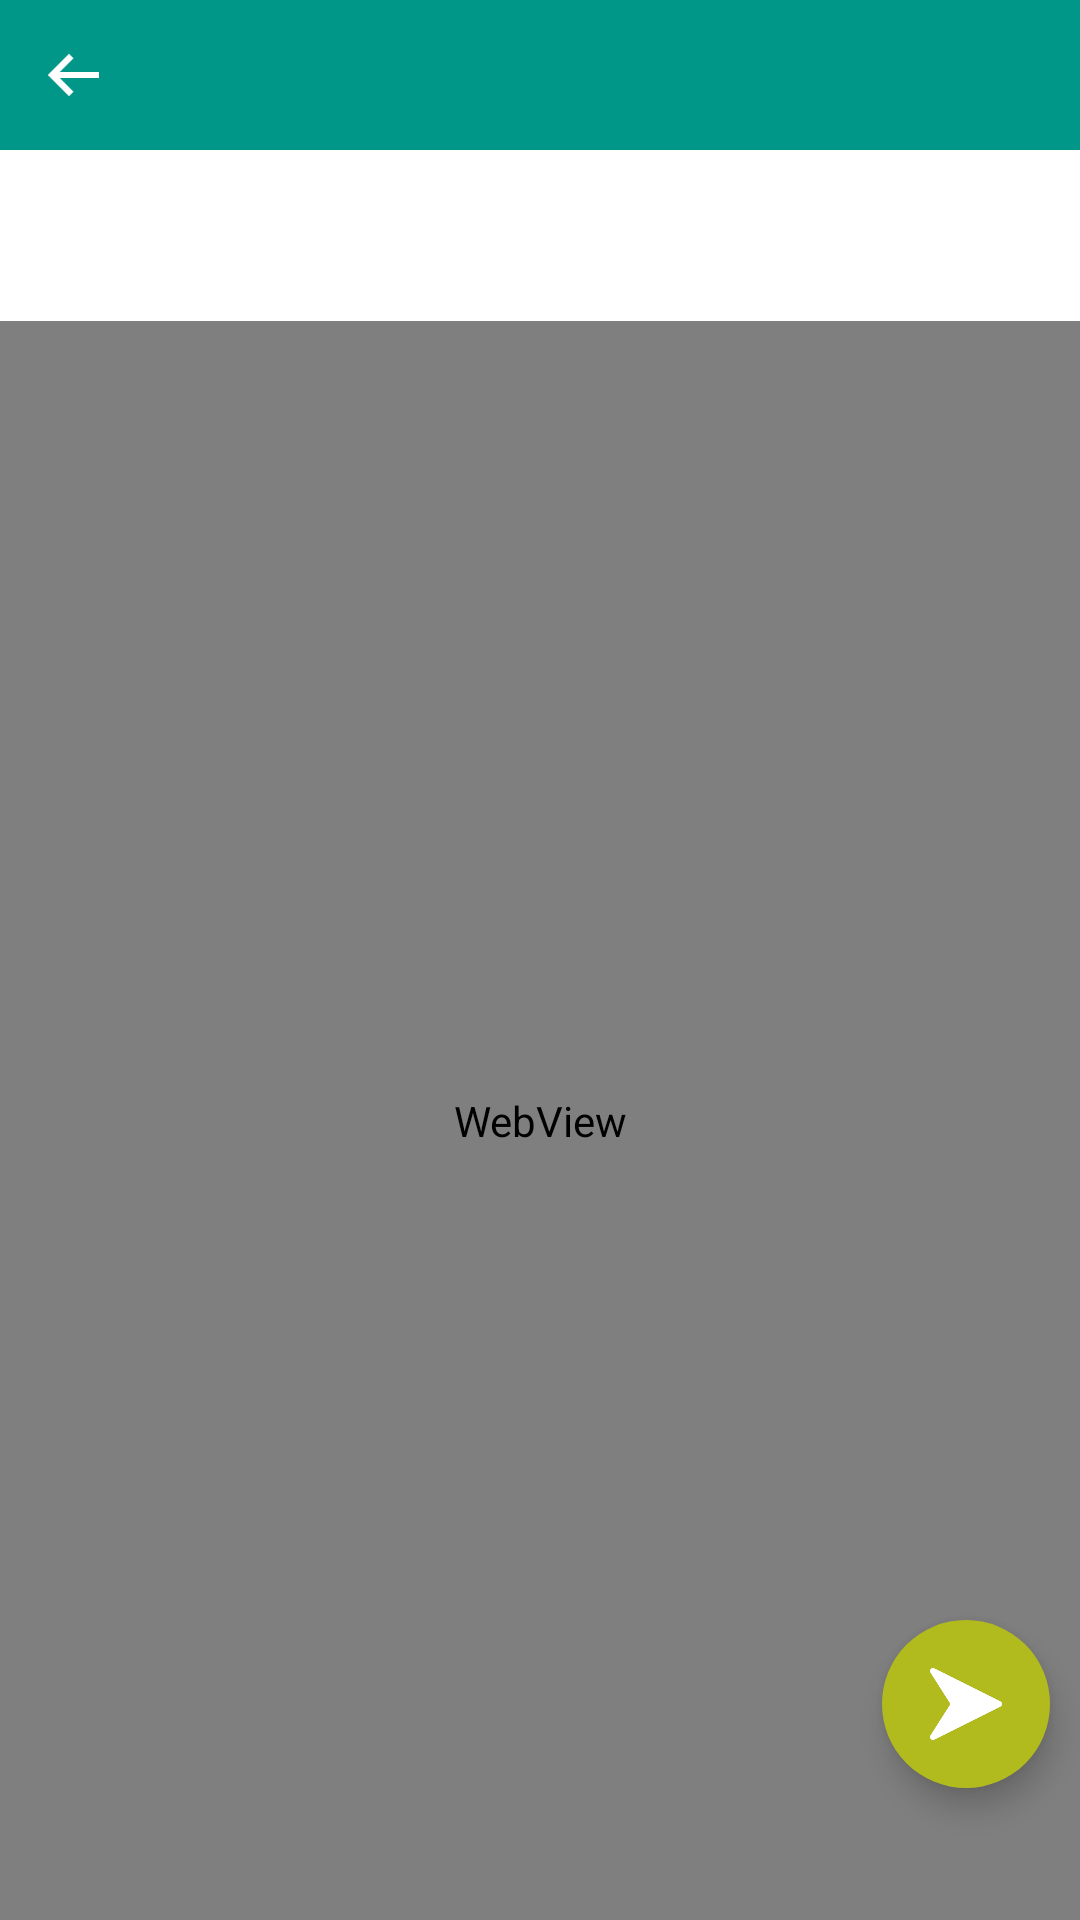

Where icons sit on this 1080 x 1920 app screen, as (x1, y1, x2, y2):
left: (48, 54, 99, 96)
next: (882, 1620, 1050, 1788)
